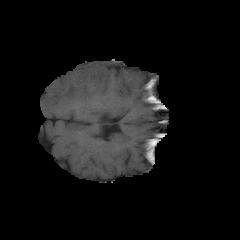glioma: (43, 66, 109, 110)
